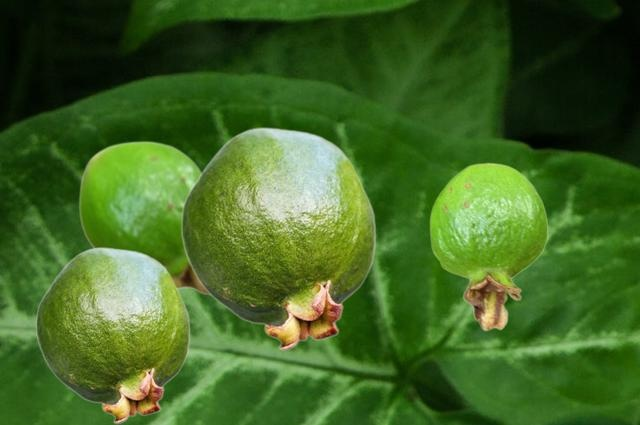guava: (180, 127, 375, 350), (35, 247, 189, 423), (78, 140, 208, 295), (429, 162, 547, 330)
